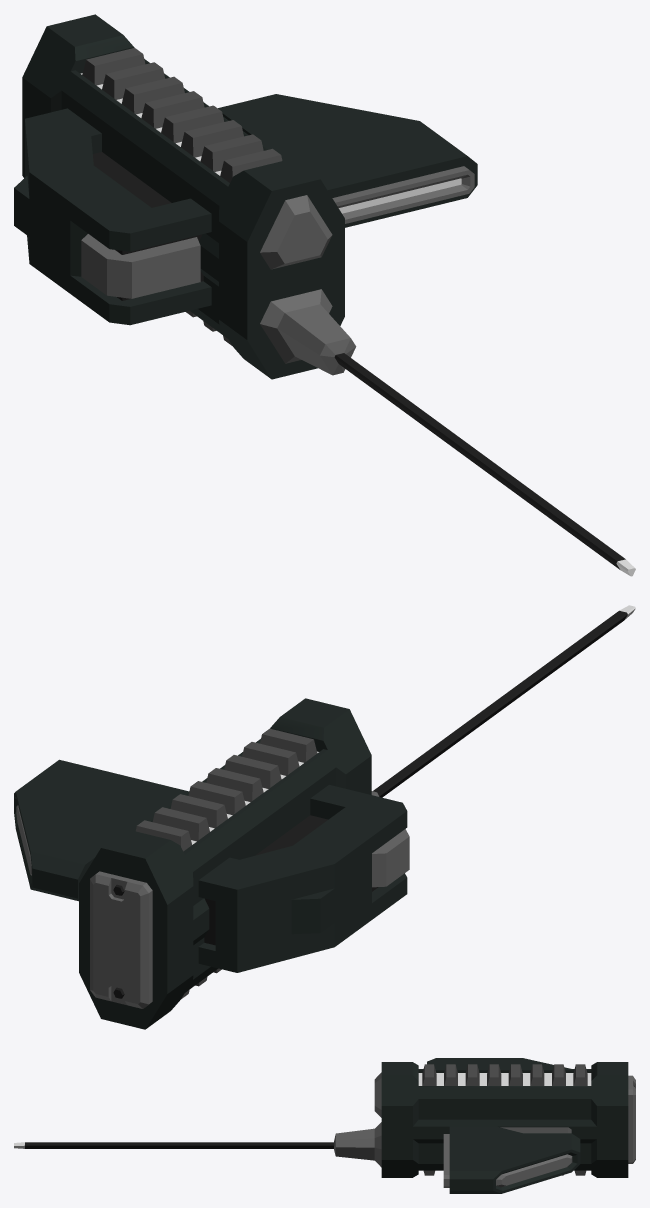
File: probeship.gltf
3 views of the same model, one above another, from view 1: azimuth 30°, elevation 25°; view 2: azimuth 150°, elevation 25°; view 3: azimuth 270°, elevation 25° (orthographic). The views are drawn at different scales.
Visible parts, largest first — view 1: group_0.002; view 2: group_0.002; view 3: group_0.002.
Boxes of the visible parts, box(x1,y1,x2,y2) form: group_0.002: box(14, 14, 635, 576); group_0.002: box(14, 605, 635, 1029); group_0.002: box(14, 1058, 635, 1193).
Size of the model in its own units: 1.44 by 0.6752 by 3.69.
2 materials, 1 textured.
